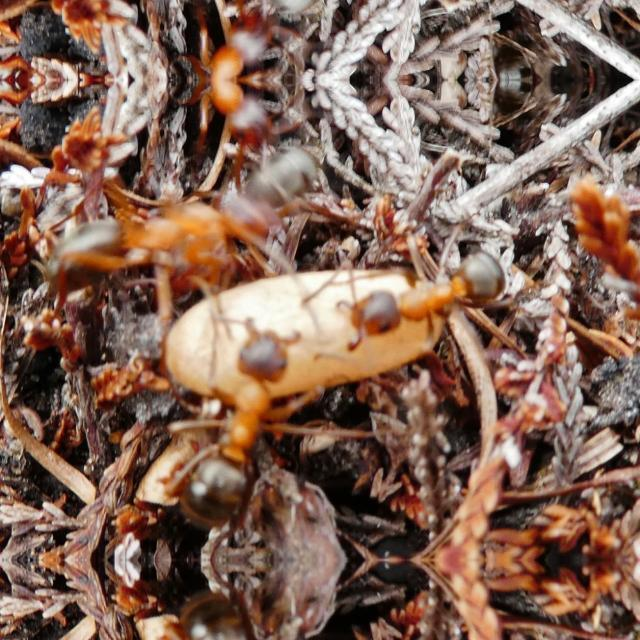Formica: (158, 328, 312, 522), (326, 242, 530, 358), (54, 182, 286, 278), (136, 80, 332, 158), (136, 2, 332, 80), (156, 598, 312, 640)
